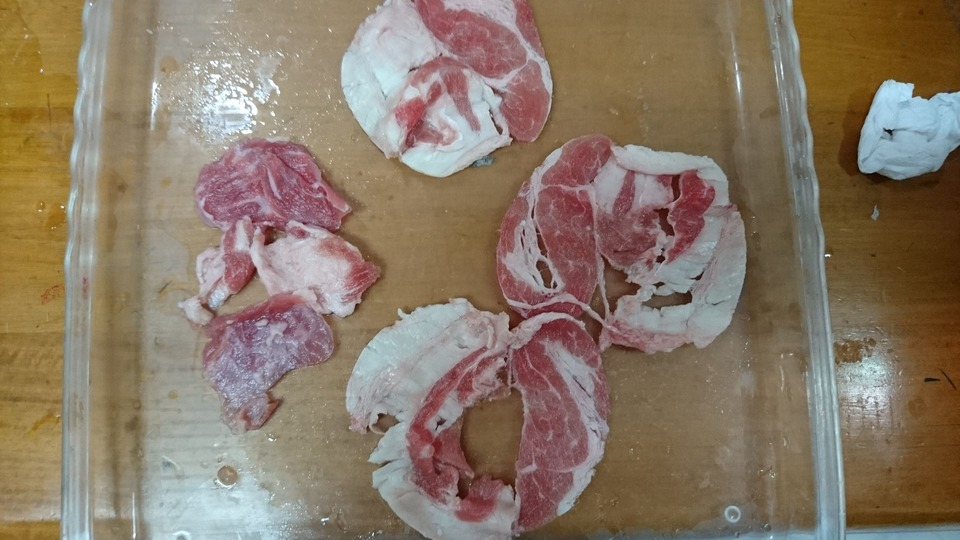restructured meat: (340, 299, 610, 540), (484, 124, 754, 365), (192, 138, 369, 428), (337, 1, 551, 180)
